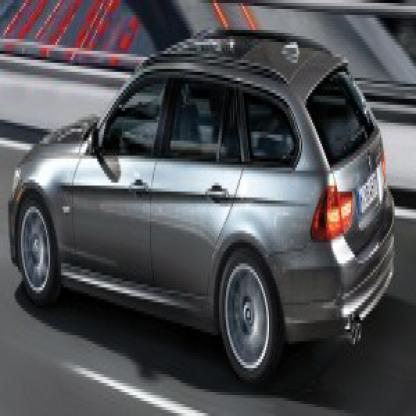Vehicle: (10, 36, 398, 404)
